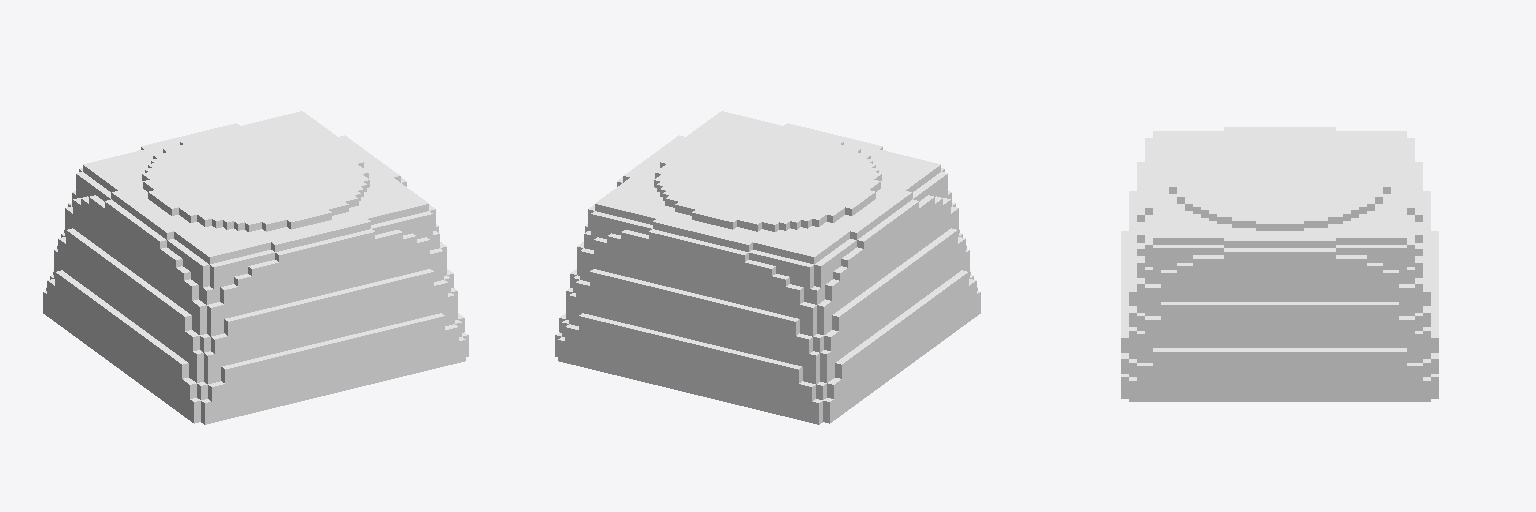
Rendered from Shaft.obj.
3 renders of one model, left to right at view 1: azimuth 30°, elevation 25°; view 2: azimuth 150°, elevation 25°; view 3: azimuth 270°, elevation 25°, orthographic.
Parts seen in each view (by area): view 1: object 1; view 2: object 1; view 3: object 1.
Boxes of the visible parts, <box> form: object 1: <box>43,111,468,424</box>; object 1: <box>555,111,980,424</box>; object 1: <box>1121,127,1438,401</box>.
Size of the model in its own units: 4 by 2.2 by 4.